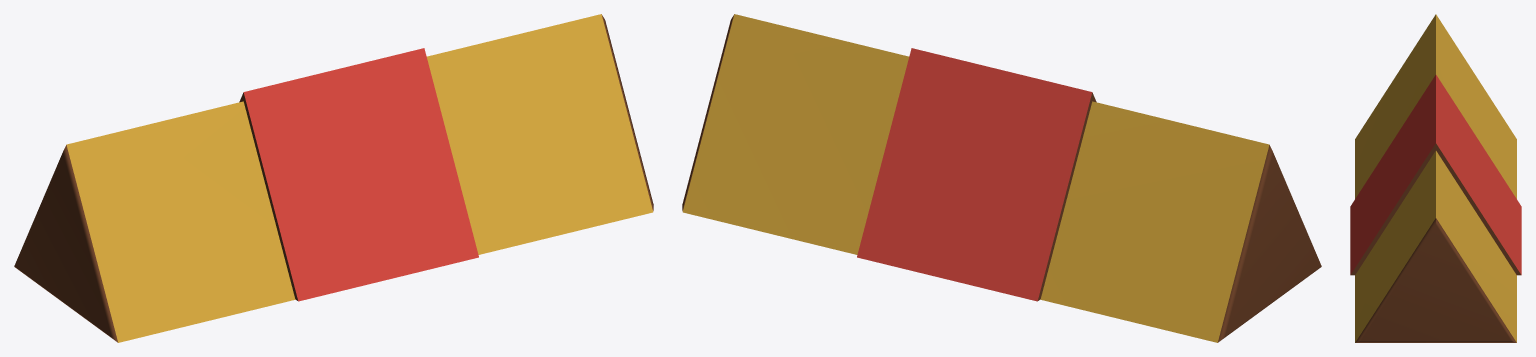
Rendered from ChocolateGigante.fbx.
The picture shows the model from 3 angles, left to right: view 1: azimuth 30°, elevation 25°; view 2: azimuth 150°, elevation 25°; view 3: azimuth 270°, elevation 25°; orthographic projection. The views are drawn at different scales.
Visible parts, largest first — view 1: ChocolateGigante; view 2: ChocolateGigante; view 3: ChocolateGigante.
Boxes of the visible parts, bbox=[...] form: ChocolateGigante: bbox=[14, 14, 653, 342]; ChocolateGigante: bbox=[682, 14, 1321, 342]; ChocolateGigante: bbox=[1350, 14, 1521, 342].
Bounding box in the file's own units: 6 × 1.79 × 2.1.
Materials: 1 (1 with a texture image).
